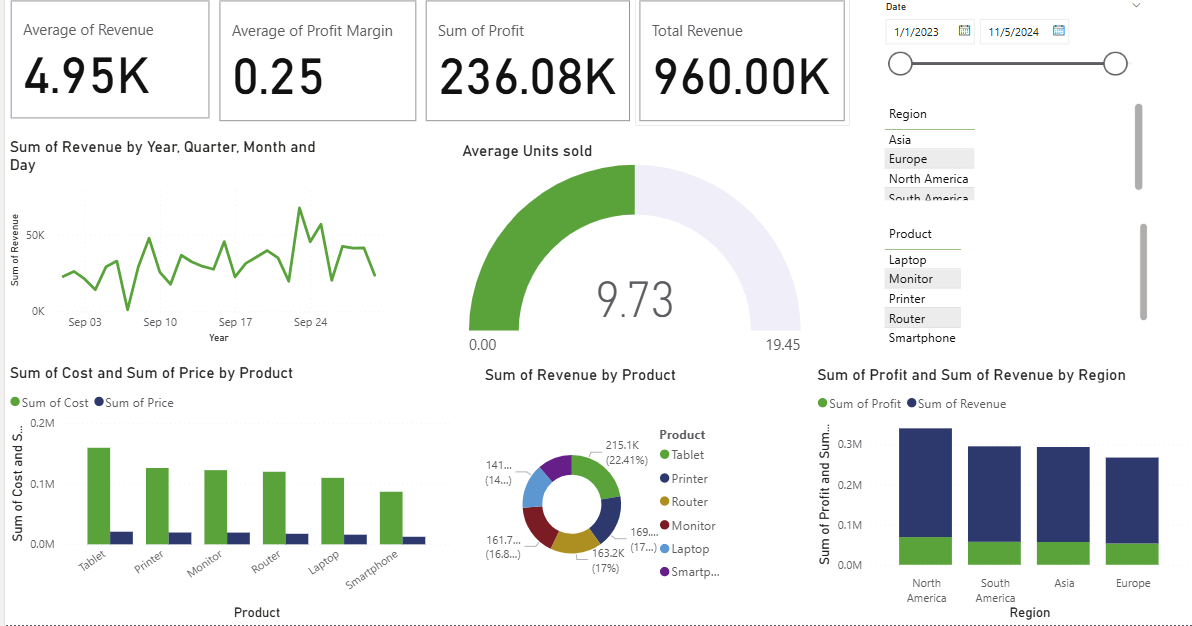

What the dashboard file says about the page in this screenshot:
{"tool":"powerbi","page":{"name":"Page 1","canvas":[1280,720],"ordinal":0},"visuals":[{"type":"donutChart","fields":{"Category":["retail_sales_data_dirty.Product"],"Y":["Sum(retail_sales_data_dirty.Revenue)"]},"box":[511.6,439.8,280.1,280.1],"z":0},{"type":"lineChart","fields":{"Category":["retail_sales_data_dirty.Date.Variation.Date Hierarchy.Year","retail_sales_data_dirty.Date.Variation.Date Hierarchy.Quarter","retail_sales_data_dirty.Date.Variation.Date Hierarchy.Month","retail_sales_data_dirty.Date.Variation.Date Hierarchy.Day"],"Y":["Sum(retail_sales_data_dirty.Revenue)"]},"box":[0,195.2,421.4,227.5],"z":1000},{"type":"columnChart","fields":{"Category":["retail_sales_data_dirty.Region"],"Y":["Sum(retail_sales_data_dirty.Profit)","Sum(retail_sales_data_dirty.Revenue)"]},"box":[870.2,439.8,410.1,280.1],"z":2000},{"type":"cardVisual","fields":{"Data":["Sum(retail_sales_data_dirty.Revenue)"]},"box":[678.5,43.1,231.6,140],"z":3000},{"type":"gauge","fields":{"Y":["retail_sales_data_dirty.Measure"]},"box":[487.3,199.2,382.3,241],"z":4000},{"type":"clusteredColumnChart","fields":{"Y":["Sum(retail_sales_data_dirty.Cost)","Sum(retail_sales_data_dirty.Price)"],"Category":["retail_sales_data_dirty.Product"]},"box":[0,438.5,484.5,281.5],"z":5000},{"type":"tableEx","fields":{"Values":["retail_sales_data_dirty.Region"]},"box":[941,153.5,289.4,114.4],"z":6000},{"type":"tableEx","fields":{"Values":["retail_sales_data_dirty.Product"]},"box":[941,282.7,294.8,140],"z":7000},{"type":"slicer","fields":{"Values":["retail_sales_data_dirty.Date"]},"box":[935.2,43.3,300.4,111],"z":8000},{"type":"cardVisual","fields":{"Data":["Sum(retail_sales_data_dirty.Profit)"]},"box":[448.3,43.1,230.2,140],"z":8002},{"type":"cardVisual","fields":{"Data":["Avg(retail_sales_data_dirty.Revenue)"]},"box":[1.3,43.1,224.8,137.3],"z":8003},{"type":"cardVisual","fields":{"Data":["Avg(retail_sales_data_dirty.Profit Margin)"]},"box":[226.2,43.1,222.1,140],"z":8004}]}

Visuals, with their boxes on the page's 1280x720 design canvas (x1, y1, x2, y2). These are canvas units, not pixel positions in the 1192x626 screenshot, which may show the page scaled, cropped or inside an application window:
donutChart - retail_sales_data_dirty.Product x Sum(retail_sales_data_dirty.Revenue): (x1=512, y1=440, x2=792, y2=720)
lineChart - retail_sales_data_dirty.Date.Variation.Date Hierarchy.Year x retail_sales_data_dirty.Date.Variation.Date Hierarchy.Quarter: (x1=0, y1=195, x2=421, y2=423)
columnChart - retail_sales_data_dirty.Region x Sum(retail_sales_data_dirty.Profit): (x1=870, y1=440, x2=1280, y2=720)
cardVisual - Sum(retail_sales_data_dirty.Revenue): (x1=678, y1=43, x2=910, y2=183)
gauge - retail_sales_data_dirty.Measure: (x1=487, y1=199, x2=870, y2=440)
clusteredColumnChart - Sum(retail_sales_data_dirty.Cost) x Sum(retail_sales_data_dirty.Price): (x1=0, y1=438, x2=484, y2=720)
tableEx - retail_sales_data_dirty.Region: (x1=941, y1=154, x2=1230, y2=268)
tableEx - retail_sales_data_dirty.Product: (x1=941, y1=283, x2=1236, y2=423)
slicer - retail_sales_data_dirty.Date: (x1=935, y1=43, x2=1236, y2=154)
cardVisual - Sum(retail_sales_data_dirty.Profit): (x1=448, y1=43, x2=678, y2=183)
cardVisual - Avg(retail_sales_data_dirty.Revenue): (x1=1, y1=43, x2=226, y2=180)
cardVisual - Avg(retail_sales_data_dirty.Profit Margin): (x1=226, y1=43, x2=448, y2=183)
